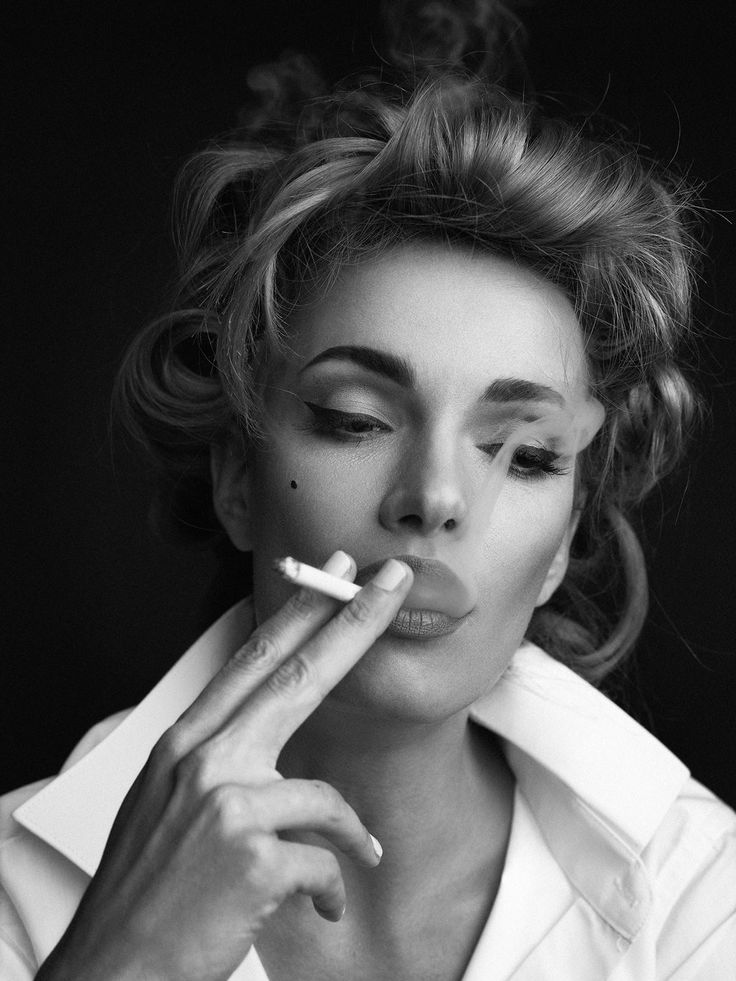cigarette: (263, 541, 398, 620)
